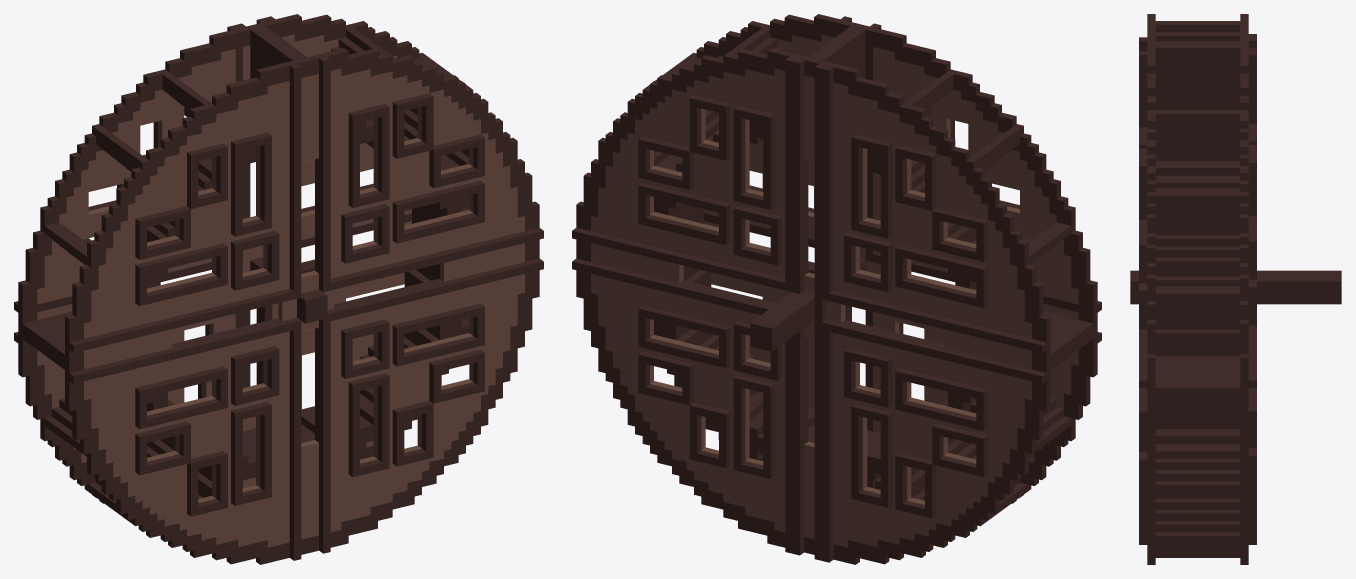
The model's file is Second House-0-Mill.obj.
3 renders of one model, left to right at view 1: azimuth 30°, elevation 25°; view 2: azimuth 150°, elevation 25°; view 3: azimuth 270°, elevation 25°, orthographic.
Visible parts, largest first — view 1: Mill; view 2: Mill; view 3: Mill.
Part boxes in pixels (x1,y1,x2,y2): Mill: (14, 14, 543, 564); Mill: (572, 14, 1101, 564); Mill: (1130, 14, 1341, 564).
Bounding box in the file's own units: 6.4 × 6.4 × 2.5.
1 material, 1 textured.
